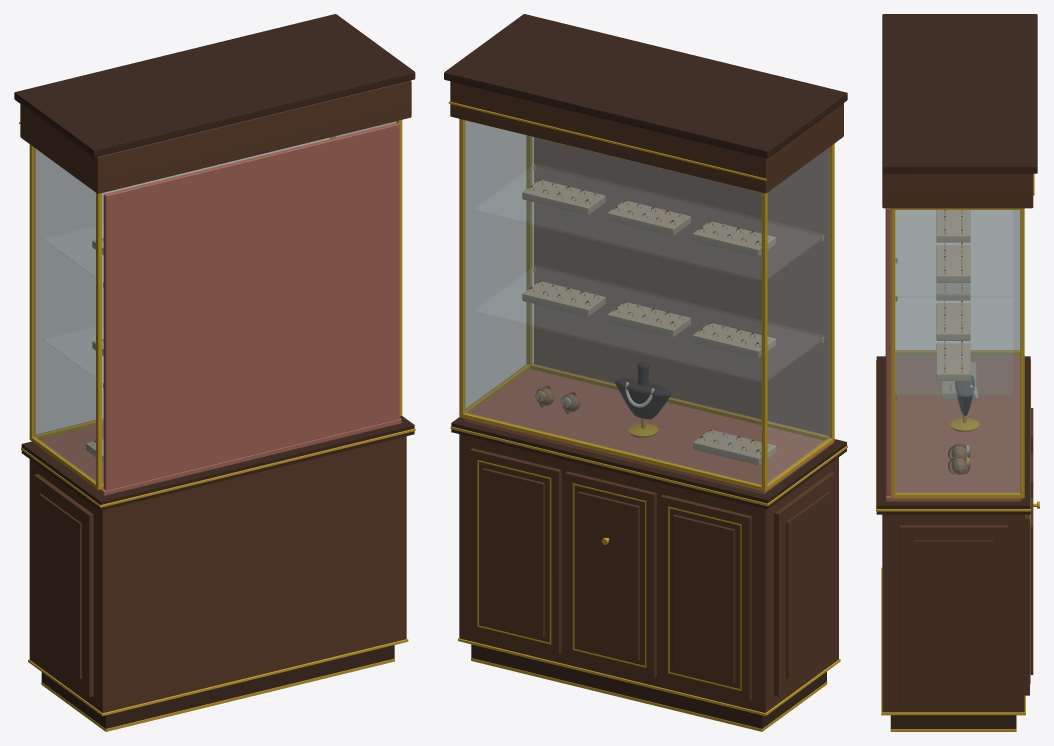
Rendered from prop_display_case_wall.glb.
3 views of the same model, side by side, from view 1: azimuth 30°, elevation 25°; view 2: azimuth 150°, elevation 25°; view 3: azimuth 270°, elevation 25° (orthographic). The views are drawn at different scales.
Parts seen in each view (by area): view 1: Body, Glass; view 2: Body, Glass, Display; view 3: Body, Glass, Display.
Boxes of the visible parts, x1=… form: Body: x1=14, y1=14, x2=415, y2=731; Glass: x1=33, y1=121, x2=397, y2=483; Body: x1=444, y1=14, x2=847, y2=731; Glass: x1=464, y1=120, x2=830, y2=485; Display: x1=522, y1=179, x2=776, y2=465; Body: x1=876, y1=14, x2=1039, y2=731; Glass: x1=895, y1=210, x2=1020, y2=493; Display: x1=936, y1=210, x2=979, y2=474.
Size of the model in its own units: 1.27 by 2.22 by 0.575.
